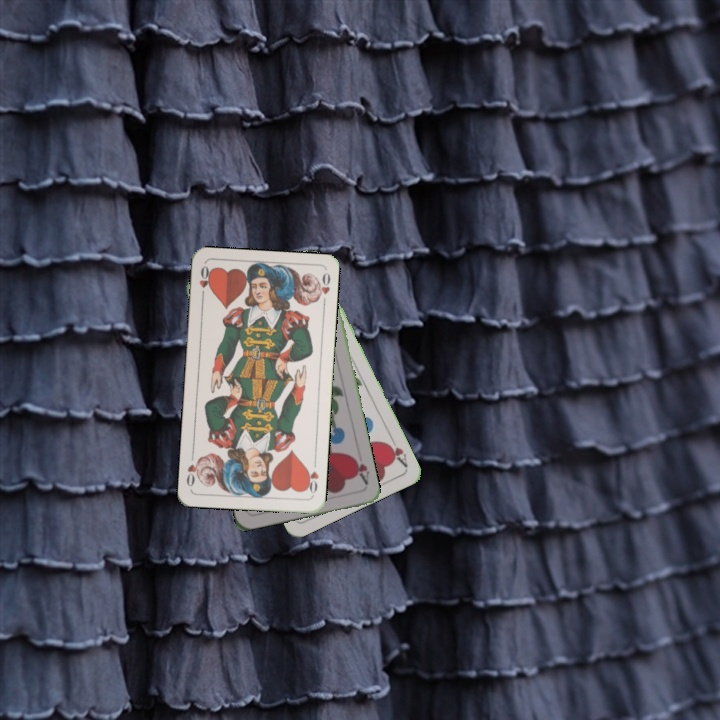HA: (382, 432, 410, 470), (348, 451, 372, 487)
HO: (302, 457, 321, 498), (195, 262, 213, 302)
